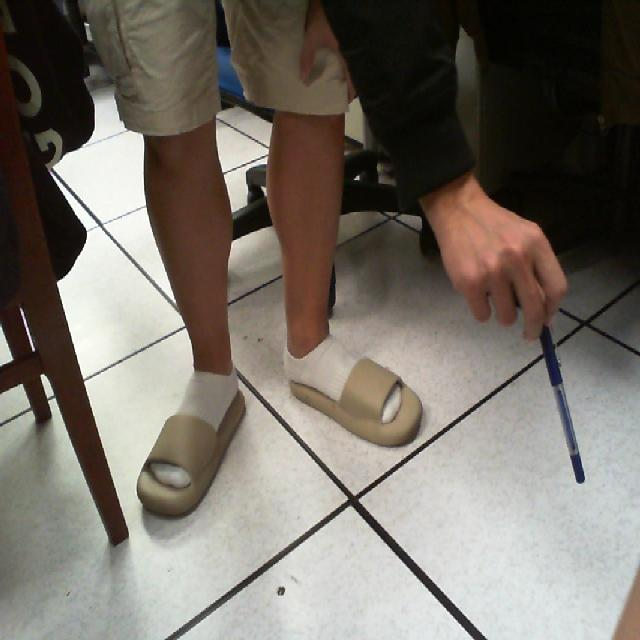Pen: (521, 305, 592, 507)
